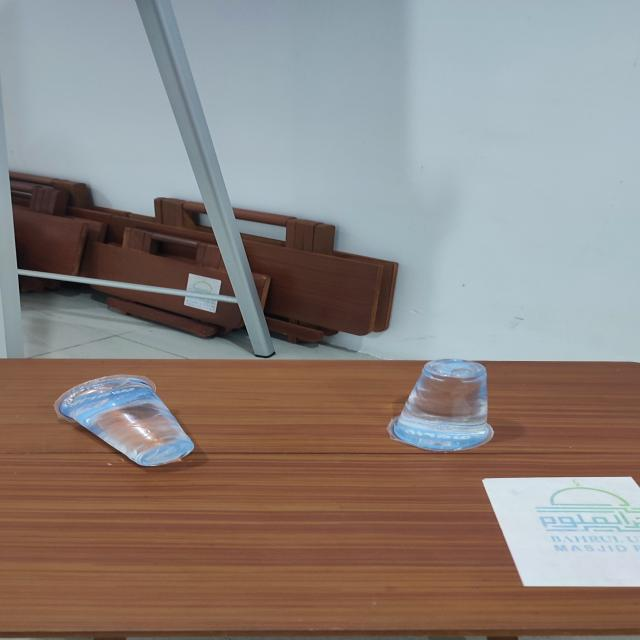air gelas: (41, 380, 210, 475), (388, 349, 514, 455)
